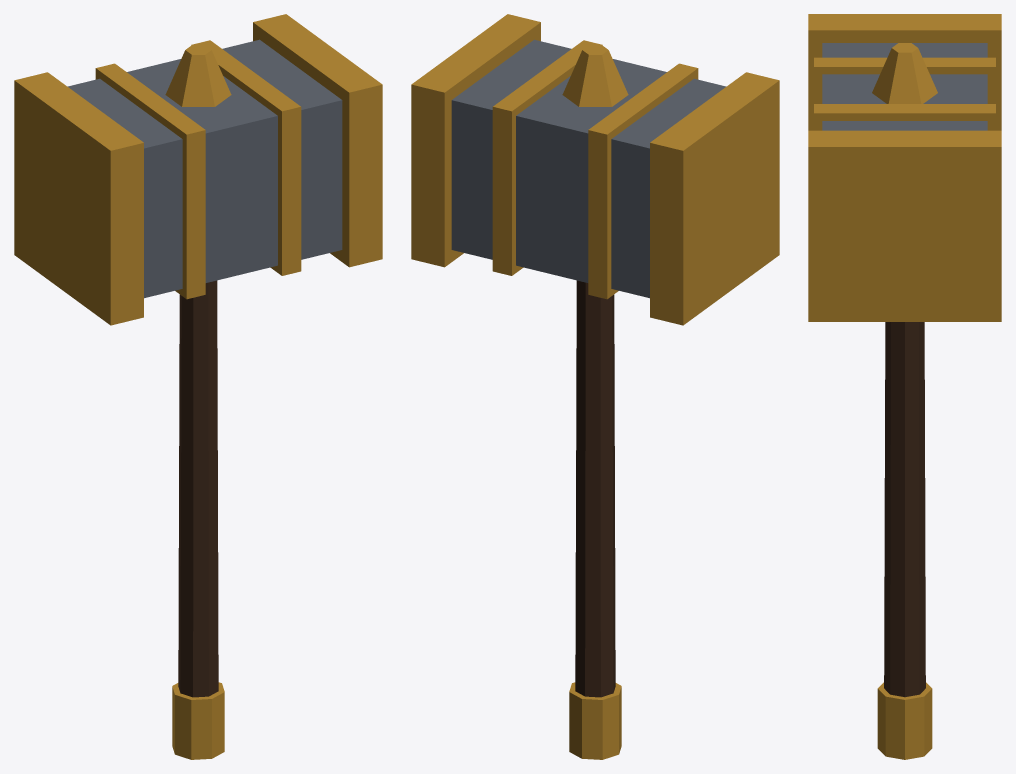
Rendered from g-warhammer-heavy.glb.
The picture shows the model from 3 angles, left to right: view 1: azimuth 30°, elevation 25°; view 2: azimuth 150°, elevation 25°; view 3: azimuth 270°, elevation 25°; orthographic projection.
Visible parts, largest first — view 1: g-warhammer-heavy; view 2: g-warhammer-heavy; view 3: g-warhammer-heavy.
Boxes of the visible parts, x1,y1,x2,y2 form: g-warhammer-heavy: [14, 14, 382, 759]; g-warhammer-heavy: [411, 14, 779, 759]; g-warhammer-heavy: [808, 14, 1001, 759].
Bounding box in the file's own units: 0.285 × 0.7 × 0.175.
